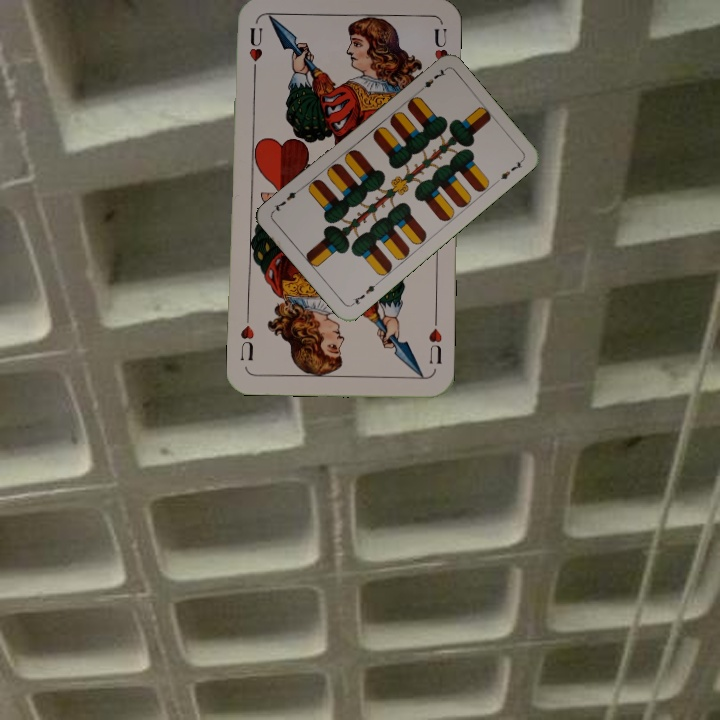E7: (347, 278, 381, 308), (414, 65, 448, 95)
HU: (245, 24, 265, 79), (425, 313, 445, 367)
